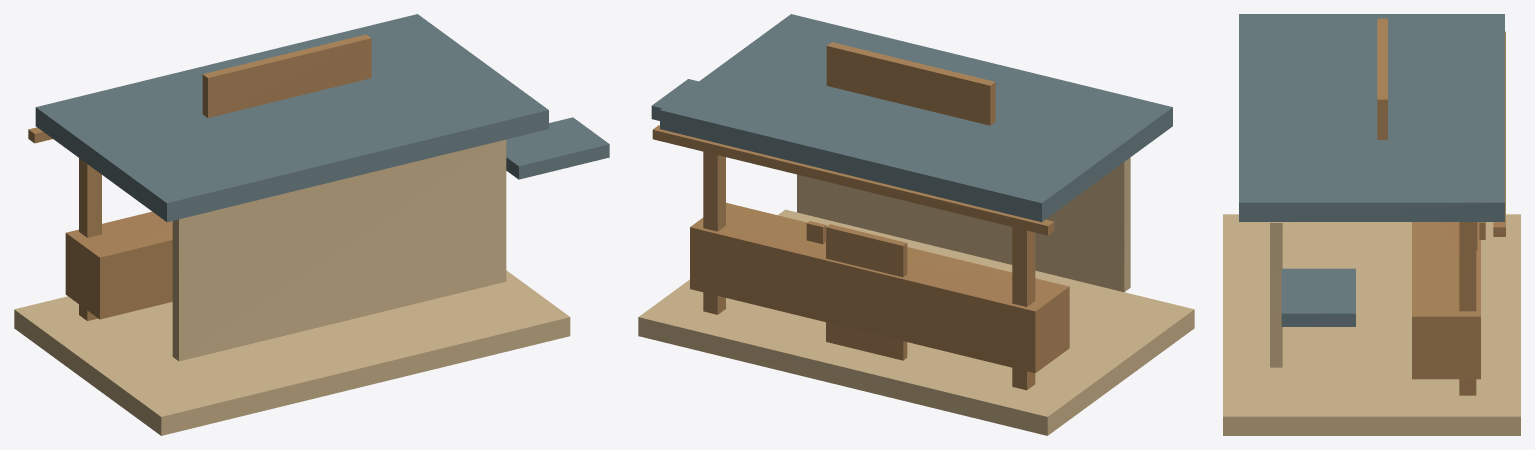
Rendered from farm-shop.source.glb.
The picture shows the model from 3 angles, left to right: view 1: azimuth 30°, elevation 25°; view 2: azimuth 150°, elevation 25°; view 3: azimuth 270°, elevation 25°; orthographic projection.
Visible parts, largest first — view 1: farm-shop-roof-mesh, farm-shop-back-wall-mesh, farm-shop-foundation-mesh, farm-shop-counter-mesh, farm-shop-blank-signboard-mesh, farm-shop-side-awning-mesh, farm-shop-post--1.7-mesh; view 2: farm-shop-roof-mesh, farm-shop-foundation-mesh, farm-shop-counter-mesh, farm-shop-back-wall-mesh, farm-shop-blank-signboard-mesh, farm-shop-teal-fascia-mesh, farm-shop-teal-double-door-mesh, farm-shop-post--1.7-mesh, farm-shop-post-1.7-mesh, farm-shop-side-awning-mesh; view 3: farm-shop-roof-mesh, farm-shop-foundation-mesh, farm-shop-counter-mesh, farm-shop-side-awning-mesh, farm-shop-post-1.7-mesh, farm-shop-back-wall-mesh, farm-shop-blank-signboard-mesh, farm-shop-teal-fascia-mesh.
Part boxes in pixels (box(x1,y1,x2,y2)): farm-shop-roof-mesh: box(35, 14, 548, 222); farm-shop-back-wall-mesh: box(172, 139, 506, 361); farm-shop-foundation-mesh: box(14, 270, 570, 435); farm-shop-counter-mesh: box(65, 211, 172, 319); farm-shop-blank-signboard-mesh: box(202, 34, 371, 117); farm-shop-side-awning-mesh: box(506, 117, 609, 179); farm-shop-post--1.7-mesh: box(79, 158, 101, 320); farm-shop-roof-mesh: box(660, 14, 1172, 222); farm-shop-foundation-mesh: box(638, 209, 1194, 435); farm-shop-counter-mesh: box(690, 202, 1069, 373); farm-shop-back-wall-mesh: box(797, 157, 1130, 292); farm-shop-blank-signboard-mesh: box(826, 42, 995, 125); farm-shop-teal-fascia-mesh: box(652, 125, 1054, 235); farm-shop-teal-double-door-mesh: box(826, 224, 907, 360); farm-shop-post--1.7-mesh: box(1012, 227, 1035, 390); farm-shop-post-1.7-mesh: box(703, 151, 725, 314); farm-shop-side-awning-mesh: box(651, 79, 698, 120); farm-shop-roof-mesh: box(1239, 14, 1504, 221); farm-shop-foundation-mesh: box(1223, 214, 1520, 435); farm-shop-counter-mesh: box(1412, 222, 1480, 379); farm-shop-side-awning-mesh: box(1281, 268, 1355, 326); farm-shop-post-1.7-mesh: box(1459, 222, 1476, 395); farm-shop-back-wall-mesh: box(1270, 222, 1282, 367); farm-shop-blank-signboard-mesh: box(1377, 18, 1387, 139); farm-shop-teal-fascia-mesh: box(1493, 31, 1505, 236).
Bounding box in the file's own units: 5.25 × 2.86 × 2.8.
